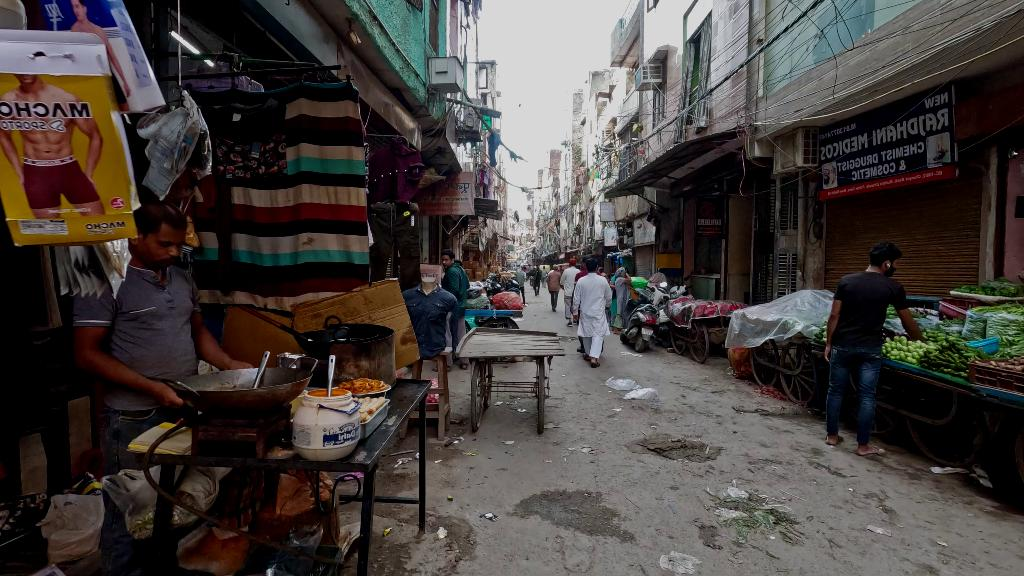garbage: (706, 477, 791, 534), (601, 371, 660, 410), (657, 545, 704, 576), (431, 524, 456, 545), (480, 508, 499, 528)
